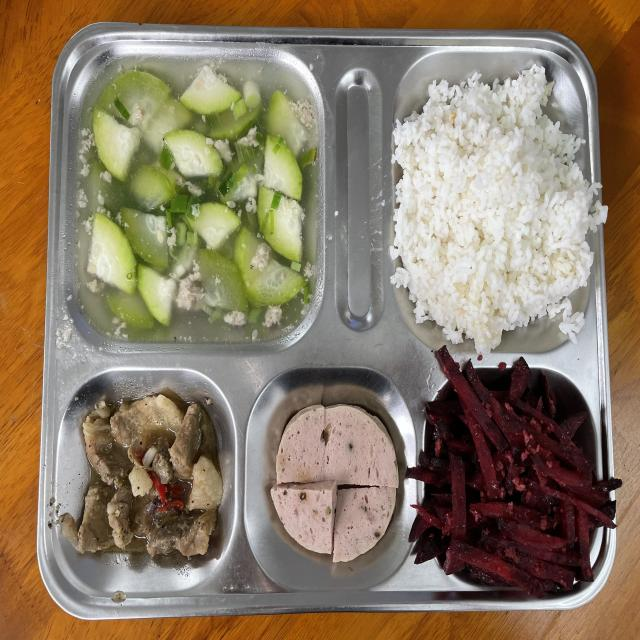canh bau: (73, 49, 324, 344)
com: (390, 65, 607, 354)
kho tieu: (60, 394, 223, 557)
